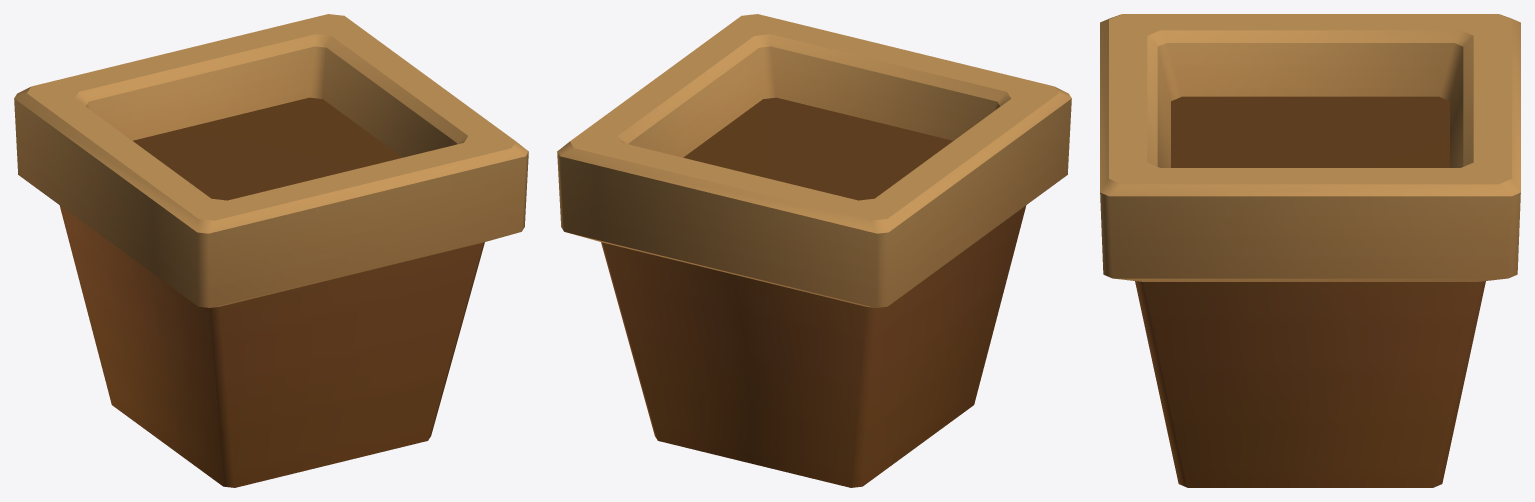
The model's file is PlantPot_1_A.fbx.
The picture shows the model from 3 angles, left to right: view 1: azimuth 30°, elevation 25°; view 2: azimuth 150°, elevation 25°; view 3: azimuth 270°, elevation 25°; orthographic projection. The views are drawn at different scales.
Parts seen in each view (by area): view 1: PlantPot_1_A; view 2: PlantPot_1_A; view 3: PlantPot_1_A.
Boxes of the visible parts, <box> form: PlantPot_1_A: <box>14,14,528,487</box>; PlantPot_1_A: <box>557,14,1071,487</box>; PlantPot_1_A: <box>1100,14,1520,487</box>.
Size of the model in its own units: 27.48 by 24 by 27.48.
